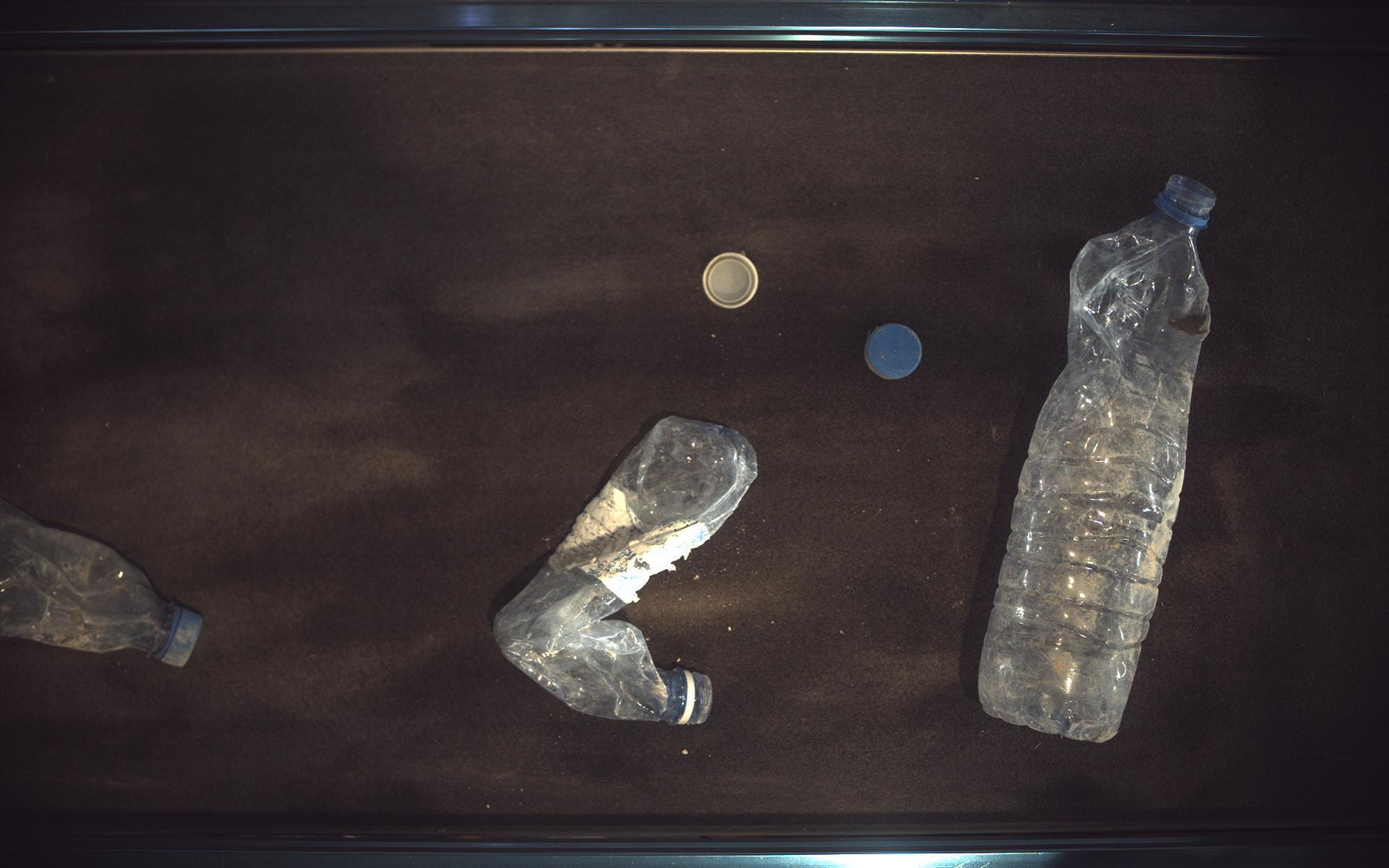general_w: (981, 174, 1219, 744), (493, 416, 758, 726), (1, 501, 201, 668), (703, 251, 760, 308), (866, 323, 924, 379)
